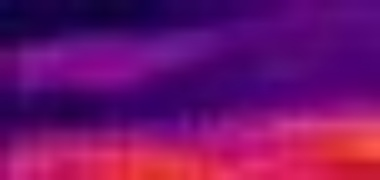Shadow: (1, 1, 380, 124)
